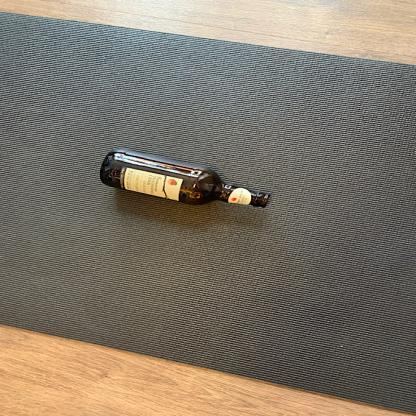trash: (98, 146, 274, 210)
